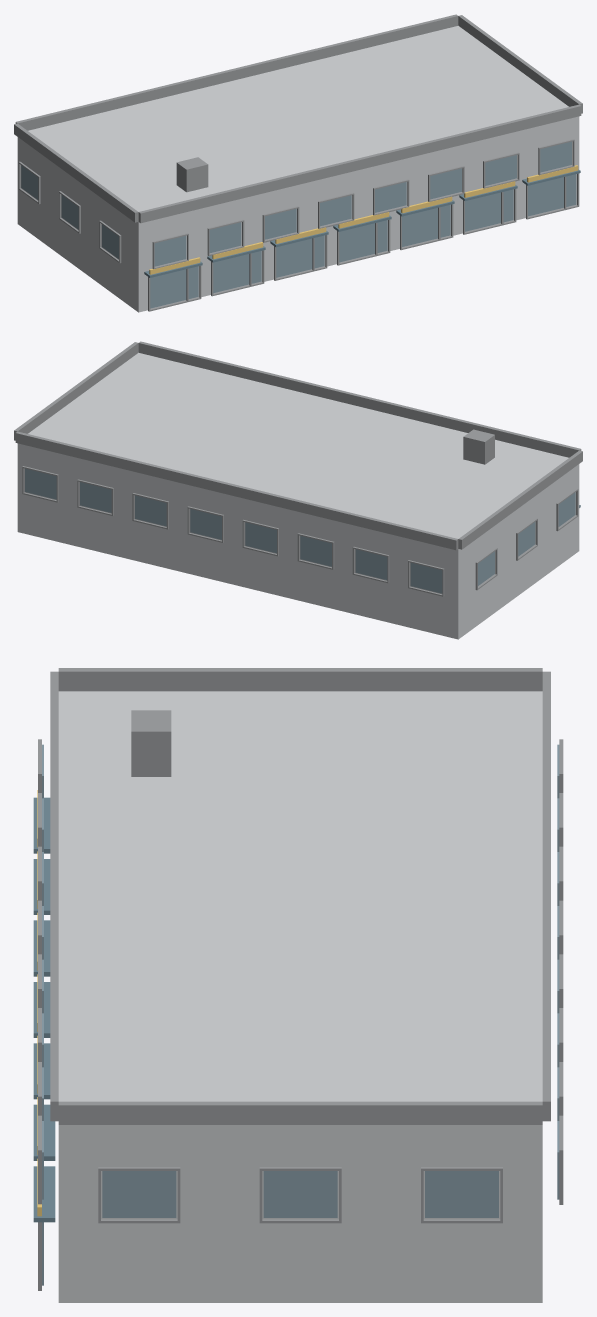
Rendered from commercial_4x2_a.glb.
The picture shows the model from 3 angles, top to bottom: view 1: azimuth 30°, elevation 25°; view 2: azimuth 150°, elevation 25°; view 3: azimuth 270°, elevation 25°; orthographic projection. The views are drawn at different scales.
Visible parts, largest first — view 1: commercial_4x2_a_0; view 2: commercial_4x2_a_0; view 3: commercial_4x2_a_0.
Part boxes in pixels (x1,y1,x2,y2): commercial_4x2_a_0: (14,14,582,312); commercial_4x2_a_0: (14,341,582,639); commercial_4x2_a_0: (33,668,563,1302).
Bounding box in the file's own units: 31.74 × 7.5 × 15.87.
